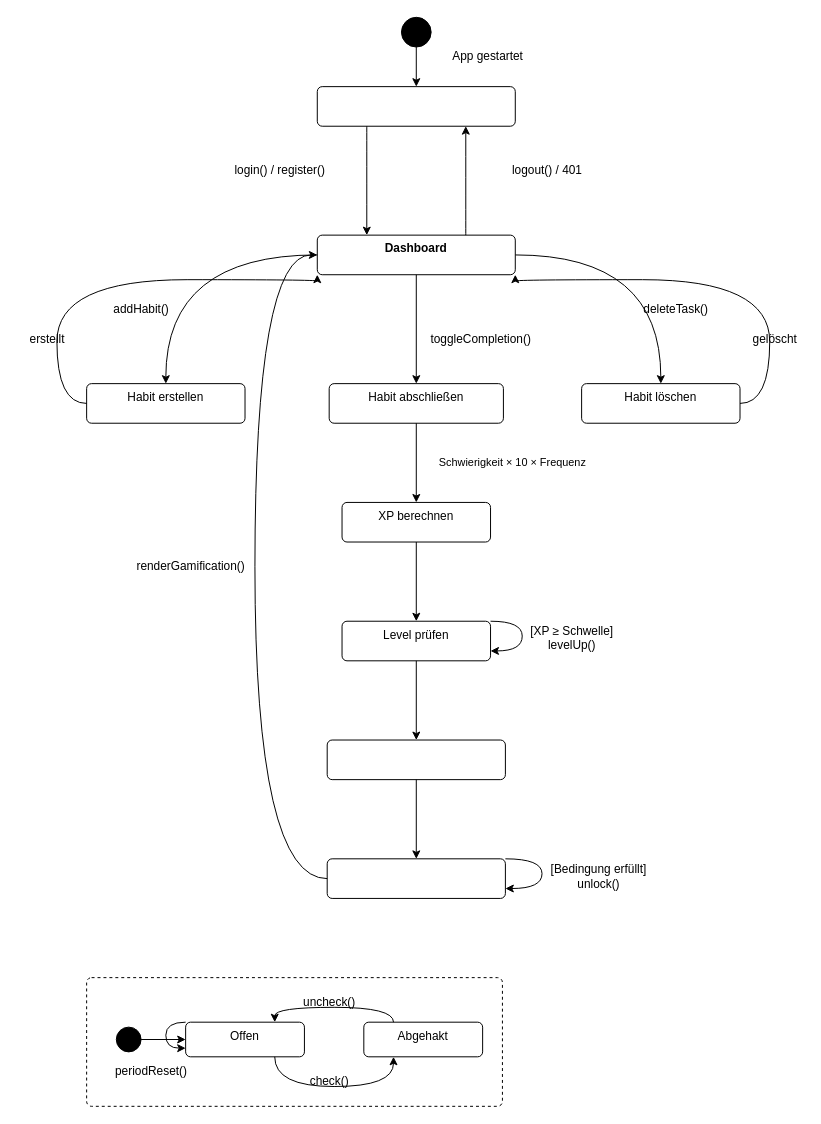
Image size: 821x1124. Some labels were removed from this diagram. The shapes that lost their labels are listed below. From the top down, each one's box as (x1, y1, x2, y2) in pixels, then its label:
(316, 86, 515, 126): Nicht authentifiziert
(326, 739, 505, 780): Streak aktualisieren
(326, 858, 505, 898): Achievements prüfen
(86, 977, 502, 1106): Habit (pro Periode)
